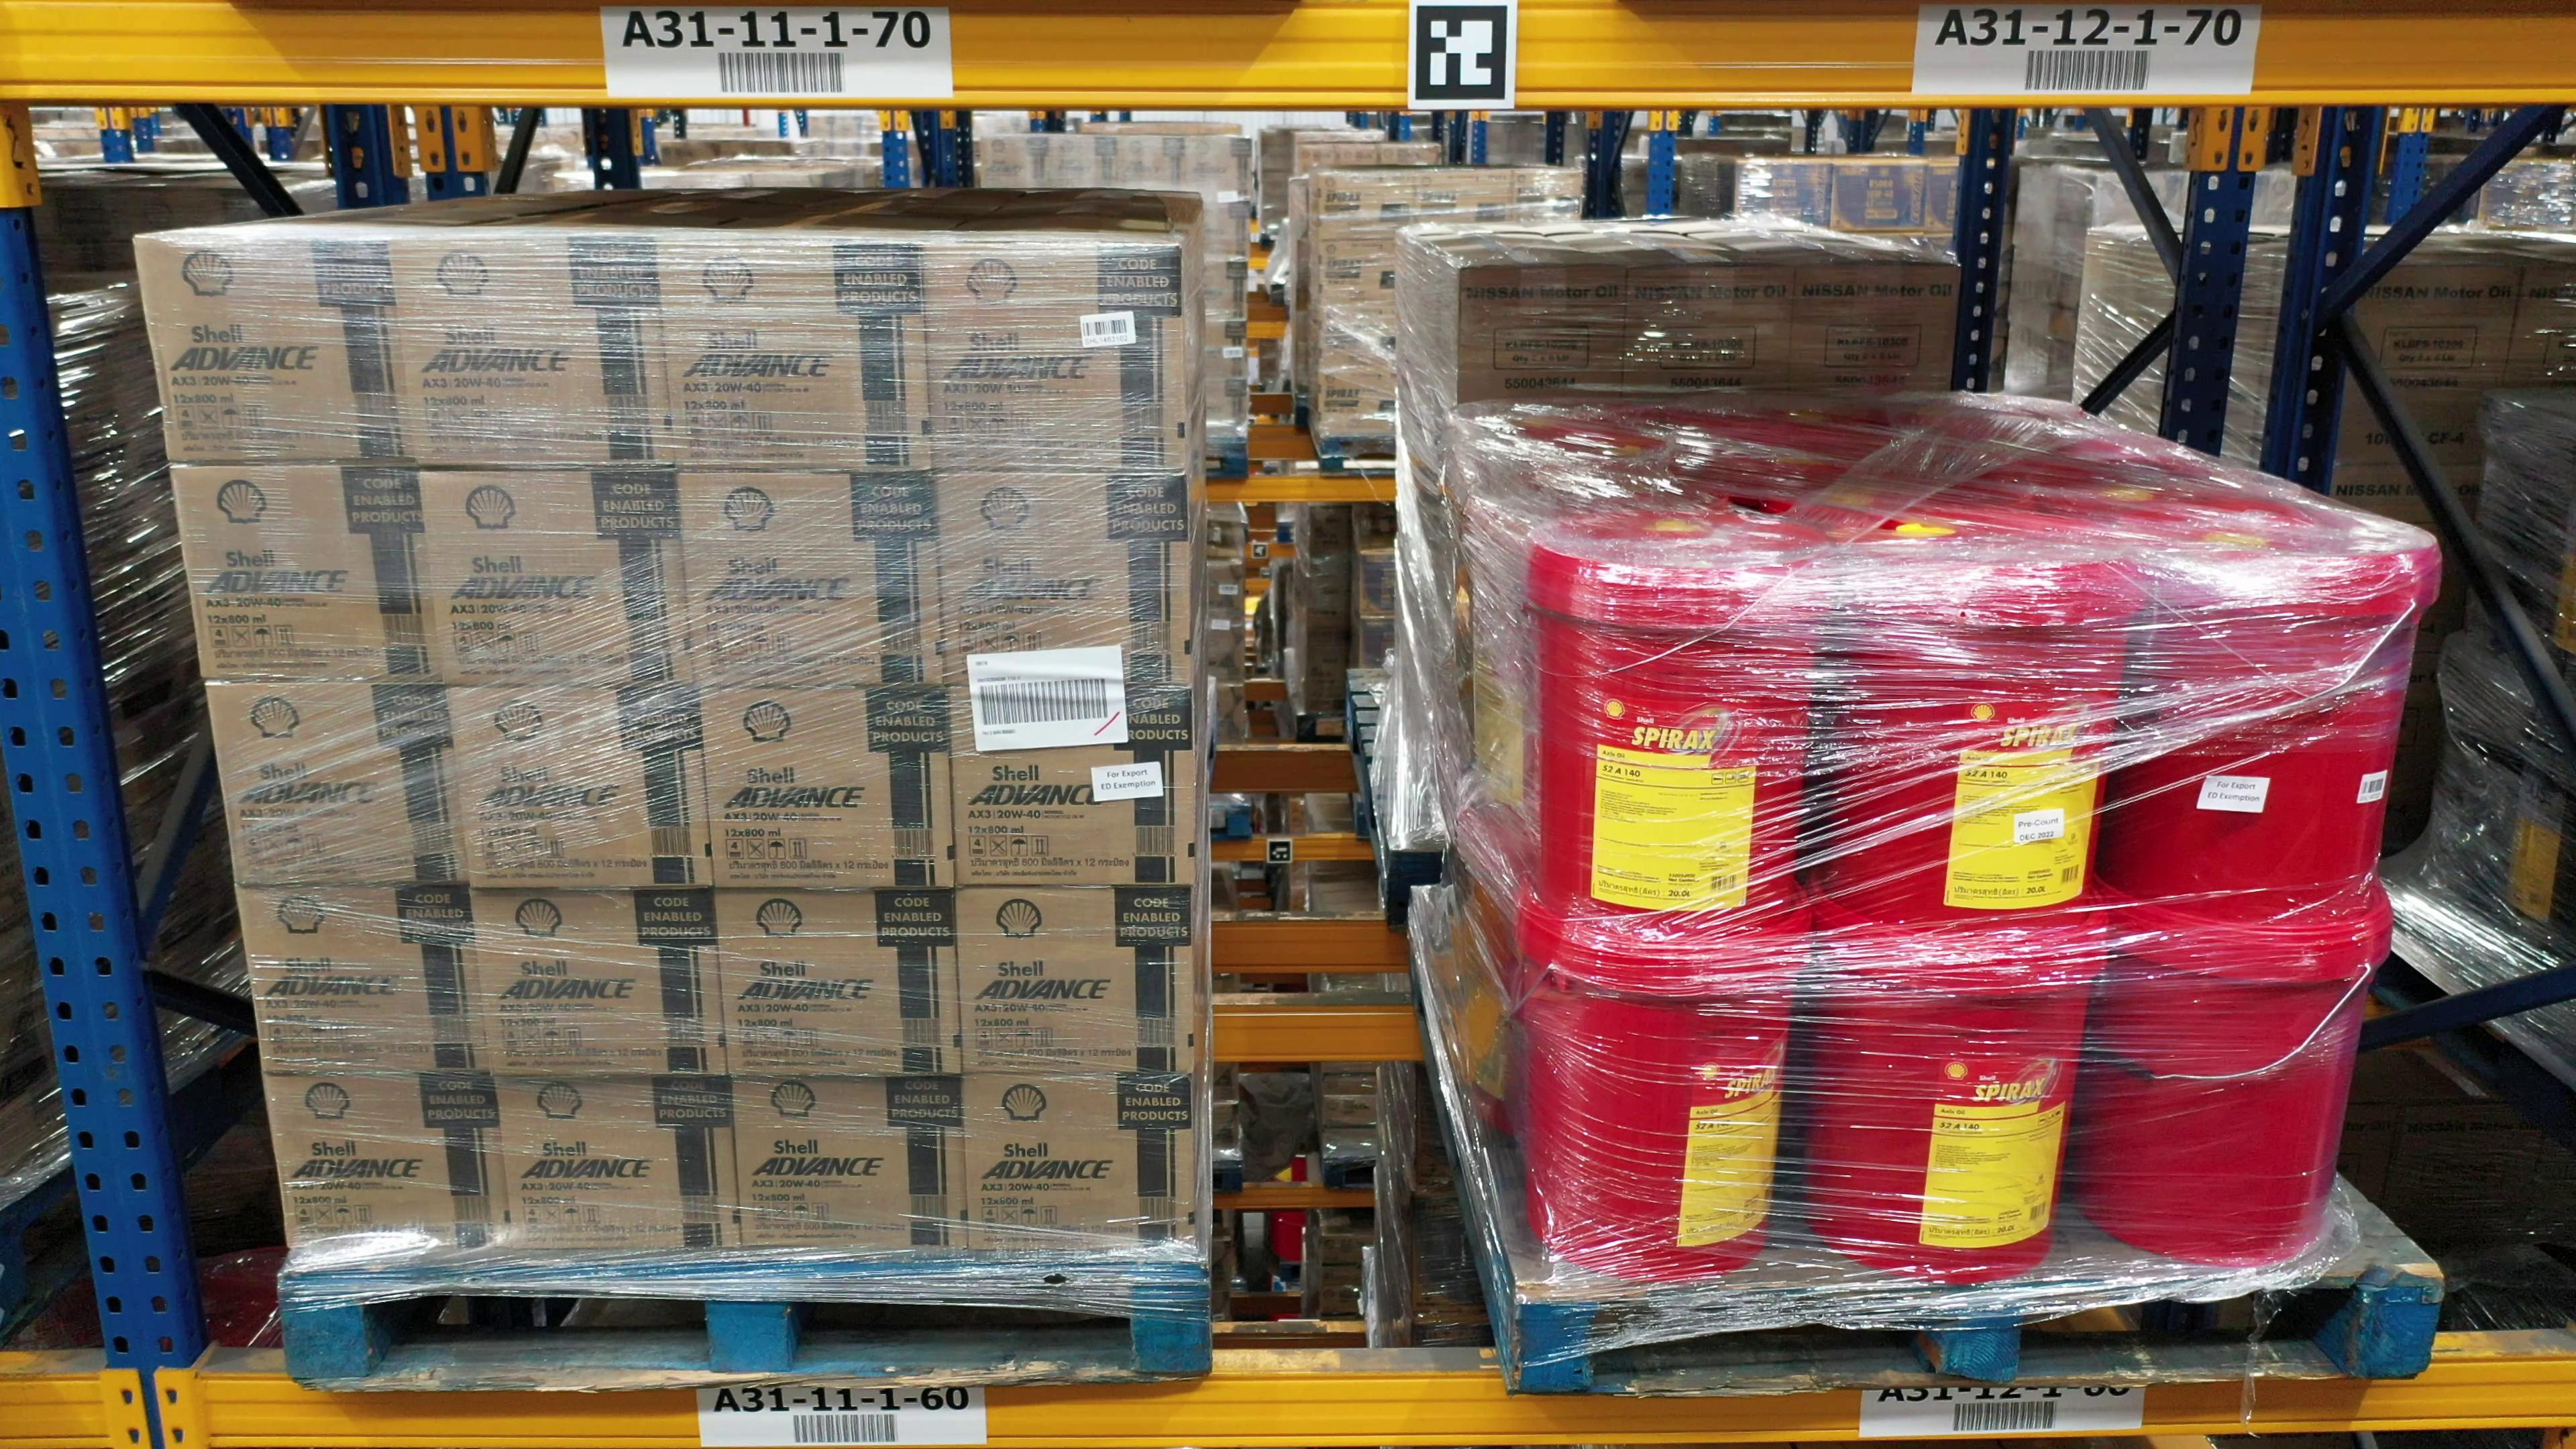-: (1806, 538, 2143, 920), (1525, 508, 1831, 920), (2118, 541, 2438, 934), (2074, 886, 2390, 1263), (1806, 906, 2109, 1283), (1520, 895, 1806, 1283), (129, 232, 416, 467), (389, 235, 676, 467), (658, 237, 931, 472), (170, 465, 448, 688), (672, 467, 947, 692), (924, 239, 1187, 472), (421, 467, 697, 688), (932, 474, 1192, 694), (449, 686, 715, 890), (701, 686, 959, 890), (211, 685, 472, 883), (943, 692, 1201, 890), (235, 881, 494, 1077), (476, 888, 727, 1077), (262, 1074, 517, 1260), (955, 883, 1198, 1077), (711, 890, 961, 1076), (961, 1076, 1203, 1260), (494, 1077, 738, 1254), (729, 1076, 966, 1256)
box: (1785, 260, 1964, 398), (1454, 264, 1626, 403), (1624, 260, 1796, 400)
